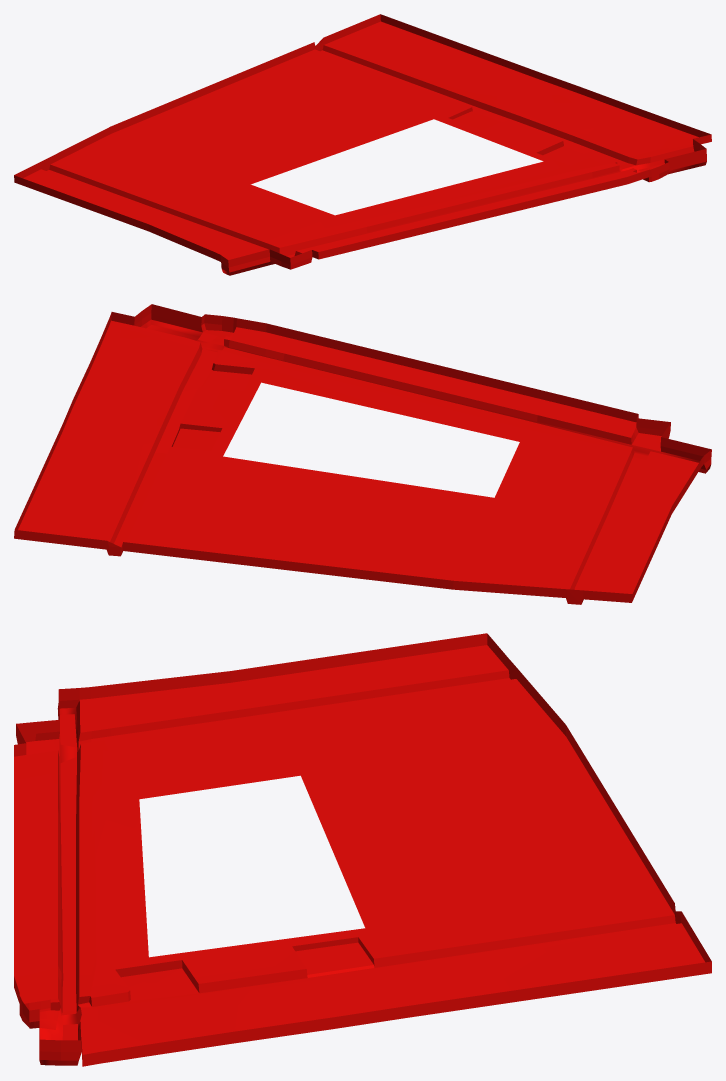
The model's file is Collision_Box_seperated.fbx.
3 views of the same model, one above another, from view 1: azimuth 30°, elevation 25°; view 2: azimuth 150°, elevation 25°; view 3: azimuth 270°, elevation 25° (orthographic). The views are drawn at different scales.
Parts seen in each view (by area): view 1: Plane; view 2: Plane; view 3: Plane.
Boxes of the visible parts, left/top/right/bottom form: Plane: left=14, top=14, right=711, bottom=275; Plane: left=14, top=304, right=711, bottom=604; Plane: left=14, top=633, right=711, bottom=1066.
Bounding box in the file's own units: 9232 × 270 × 6455.
